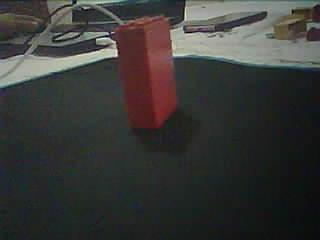lego: (112, 15, 178, 130), (271, 16, 306, 39), (290, 5, 313, 21), (306, 25, 320, 41)
